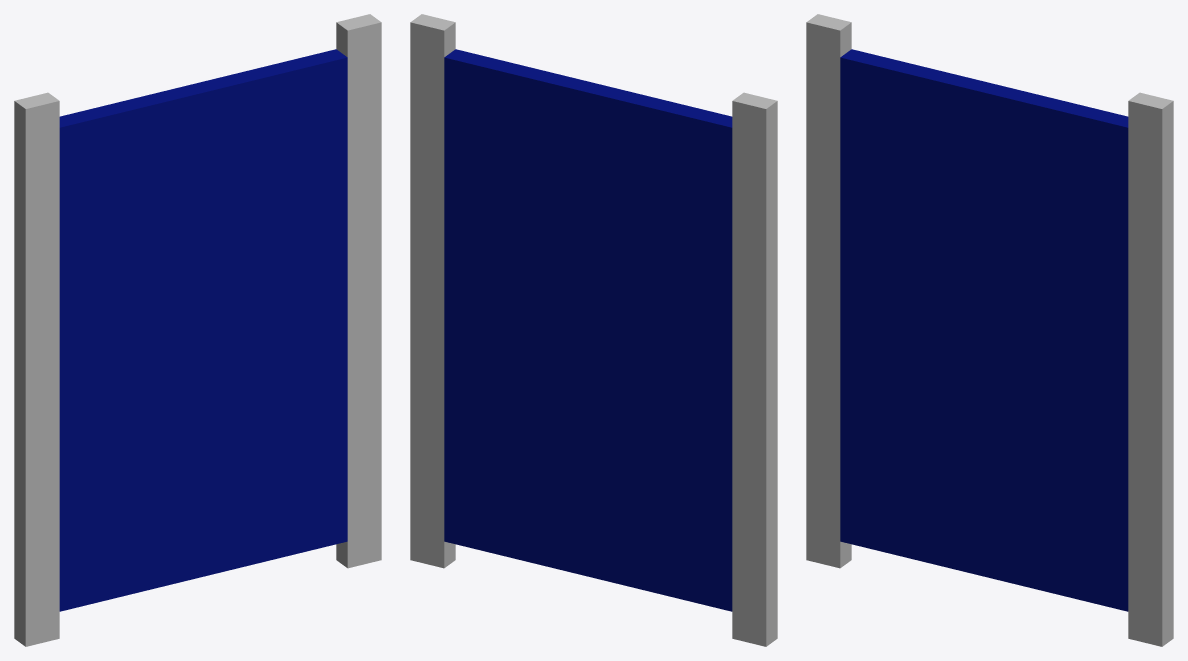
The model's file is Toilet_Cubicle_Frame.fbx.
The picture shows the model from 3 angles, left to right: view 1: azimuth 30°, elevation 25°; view 2: azimuth 150°, elevation 25°; view 3: azimuth 330°, elevation 25°; orthographic projection.
Parts seen in each view (by area): view 1: Cube; view 2: Cube; view 3: Cube.
Boxes of the visible parts, box(x1,y1,x2,y2) form: Cube: box(14, 14, 381, 646); Cube: box(410, 14, 777, 646); Cube: box(806, 14, 1173, 646).
Size of the model in its own units: 1.8 by 2.6 by 0.1.
